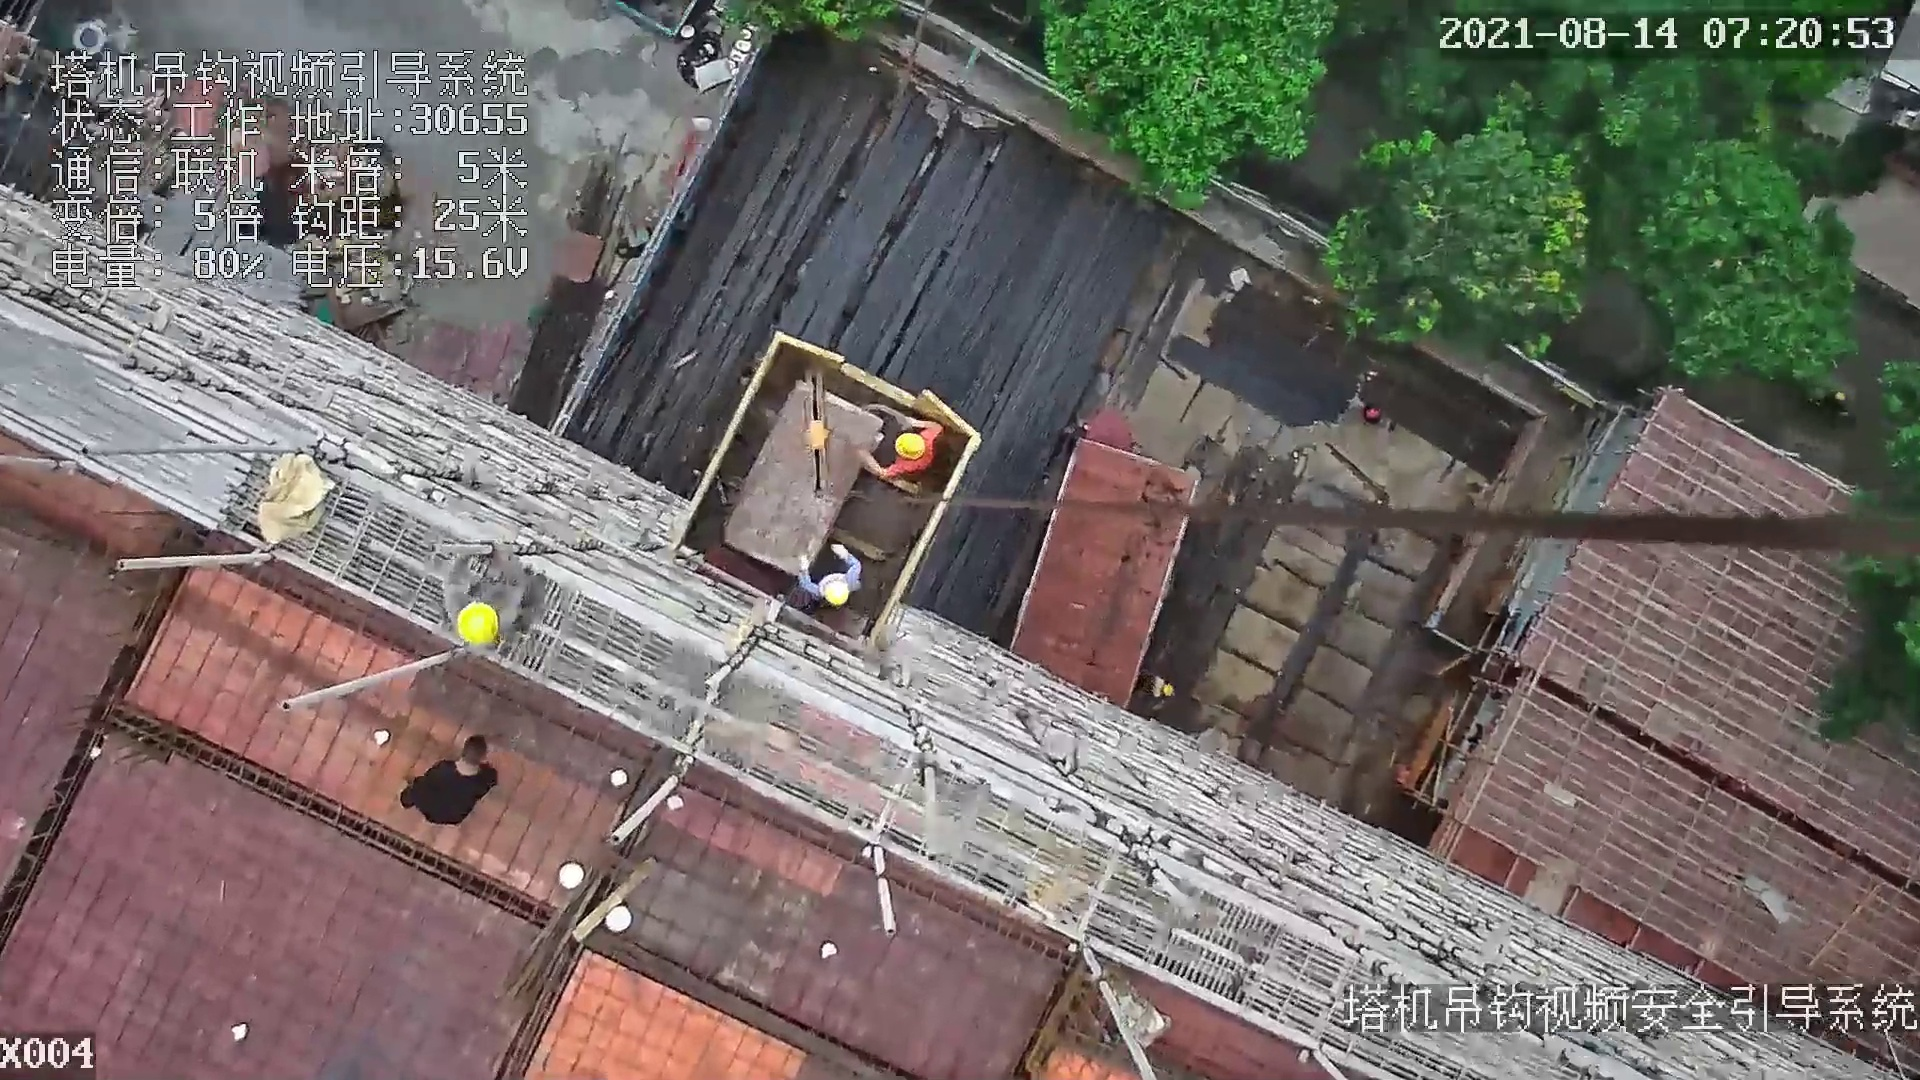helmet: (451, 599, 506, 646), (894, 427, 927, 460), (822, 577, 847, 605)
person: (386, 726, 495, 827), (433, 555, 536, 650), (859, 419, 947, 496), (790, 540, 864, 606)
